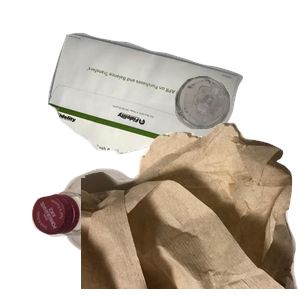glass: (172, 73, 300, 195)
paper: (45, 30, 281, 195)
plastic: (29, 166, 183, 300)
trash: (81, 120, 300, 300)
